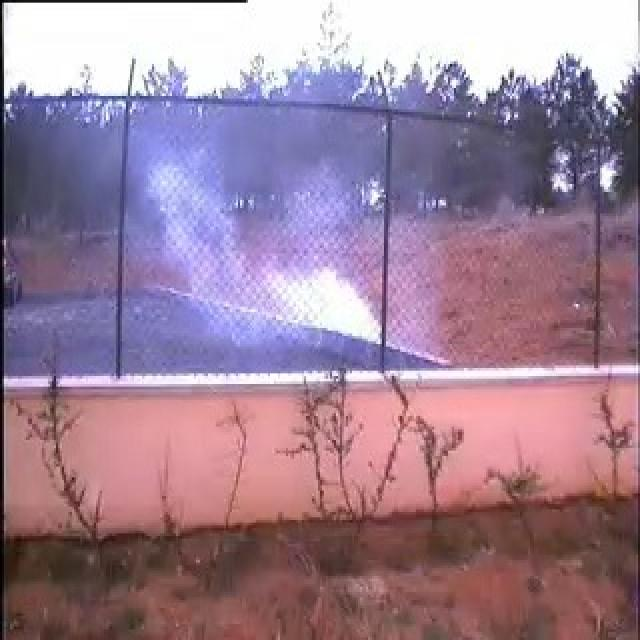smoke: (146, 116, 388, 351)
